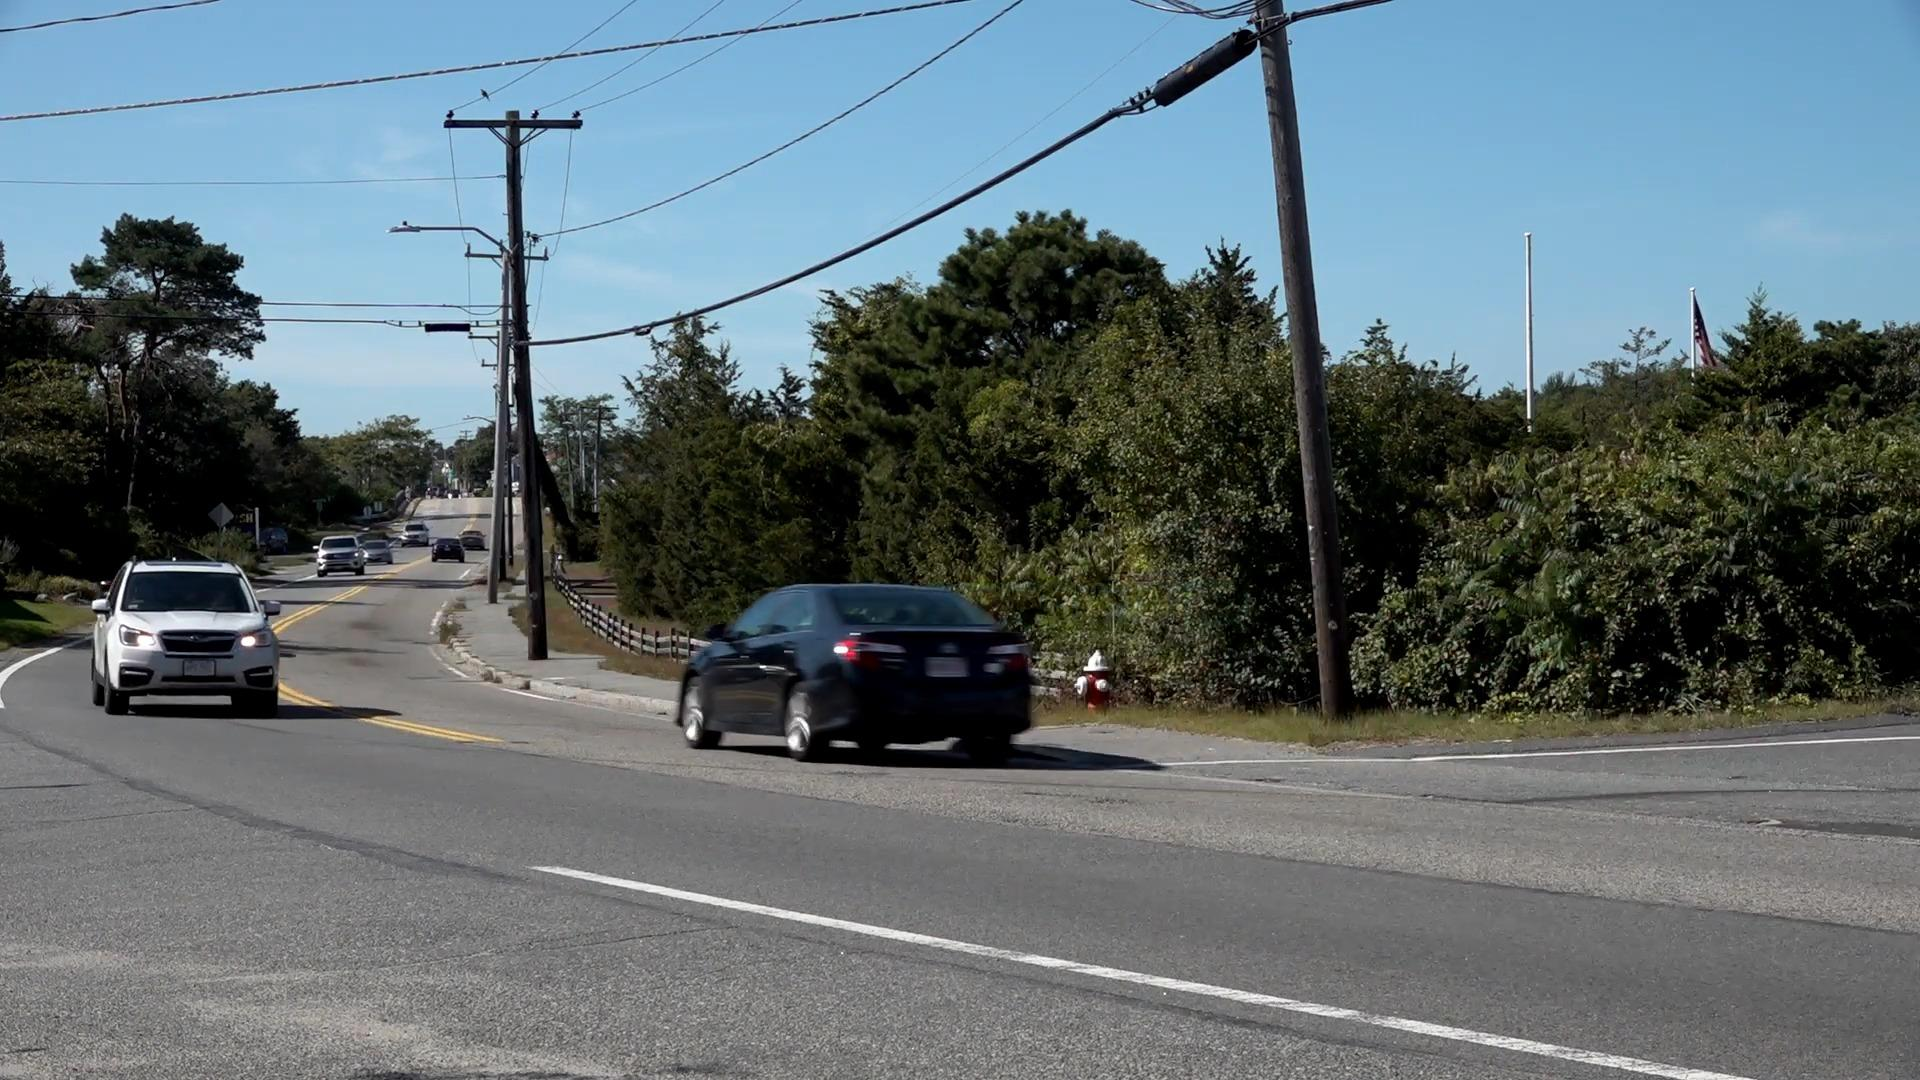pickup: (319, 536, 364, 576)
sedans: (673, 579, 1037, 767)
suv: (94, 563, 283, 716)
